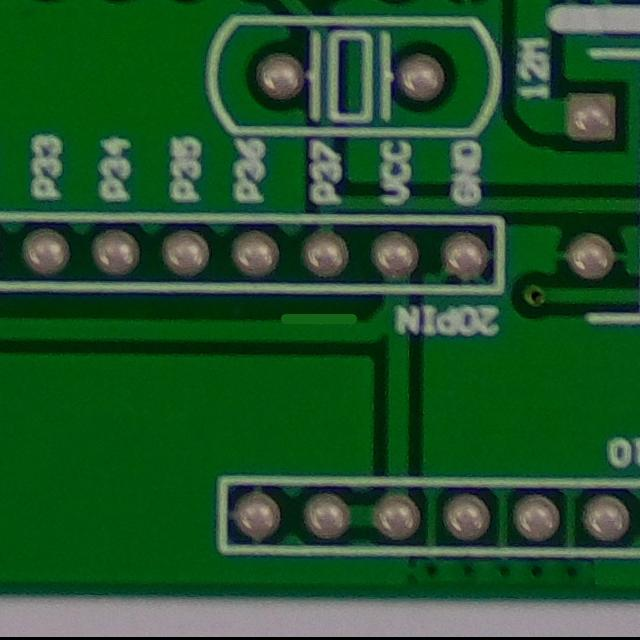spur: (265, 293, 375, 347)
